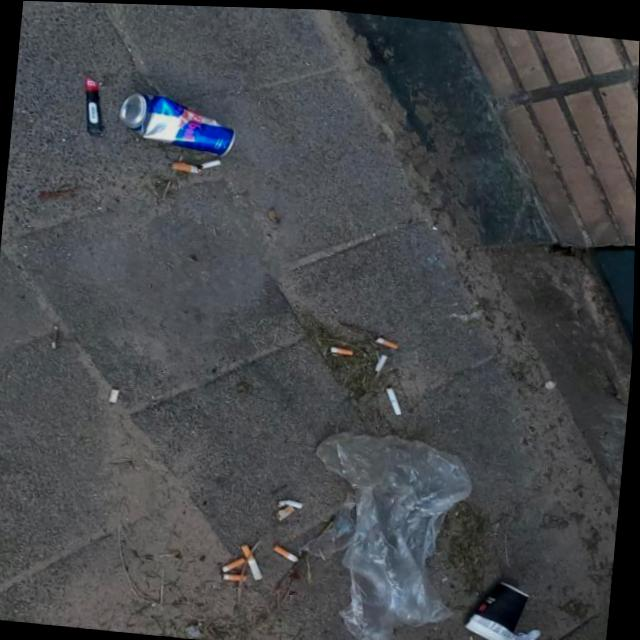Can-Metal: (113, 88, 241, 157)
Cup: (463, 574, 533, 640)
Paper: (487, 621, 547, 640)
